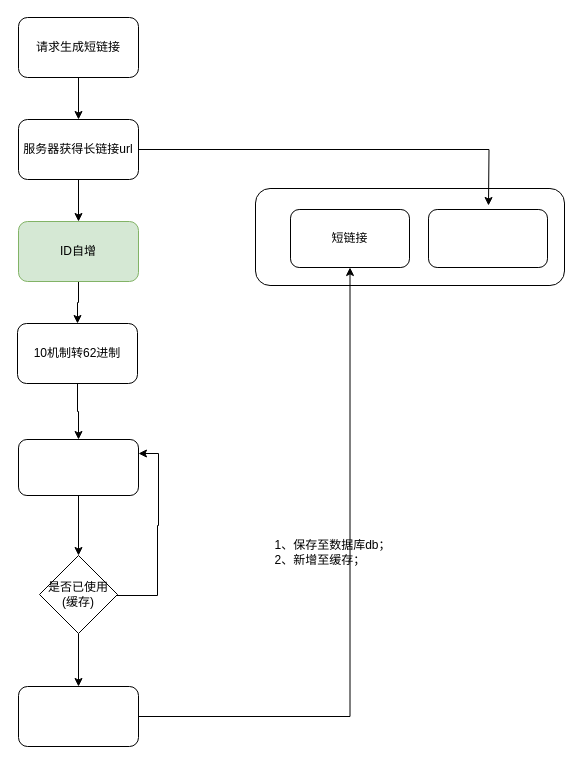
This 582x764 diagram has some shape labels left out. Here are the shapes that lost their labels. From the top down, the centre of each, then its label:
point (488, 238): 长链接
point (78, 467): 随机加盐
point (78, 716): 短链接未被使用
